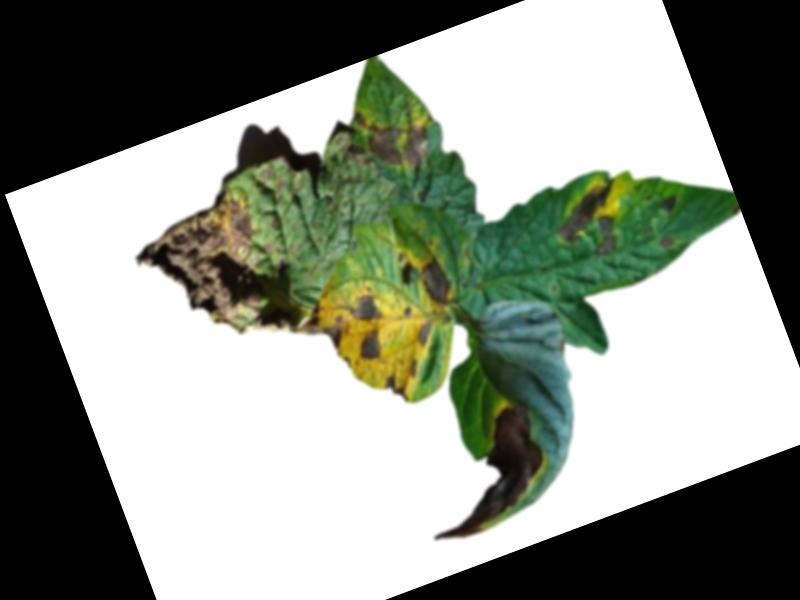Early_blight: (124, 182, 301, 372), (399, 400, 562, 549), (347, 86, 438, 186), (546, 178, 636, 270), (284, 292, 356, 364), (412, 254, 459, 316), (343, 284, 385, 329), (332, 126, 368, 177), (352, 327, 388, 365), (380, 370, 412, 410), (411, 320, 441, 349), (251, 164, 277, 190), (658, 193, 681, 216), (407, 360, 422, 380), (657, 235, 676, 250)
